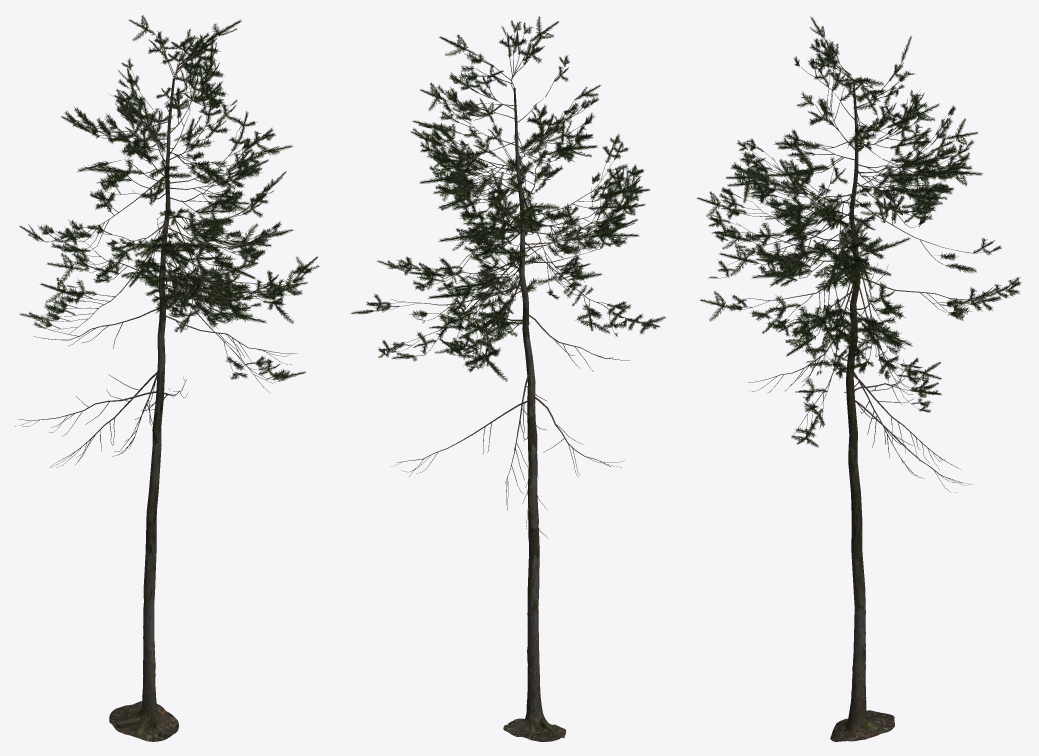
File: fir_tree_01_c_near.glb
3 views of the same model, side by side, from view 1: azimuth 30°, elevation 25°; view 2: azimuth 150°, elevation 25°; view 3: azimuth 270°, elevation 25° (orthographic). The views are drawn at different scales.
Parts seen in each view (by area): view 1: fir_tree_01_c_near; view 2: fir_tree_01_c_near; view 3: fir_tree_01_c_near.
Boxes of the visible parts, bbox=[...] form: fir_tree_01_c_near: bbox=[15, 15, 319, 741]; fir_tree_01_c_near: bbox=[350, 16, 665, 741]; fir_tree_01_c_near: bbox=[696, 16, 1020, 741].
Size of the model in its own units: 6.35 by 14.55 by 6.01.
3 materials, 3 textured.
